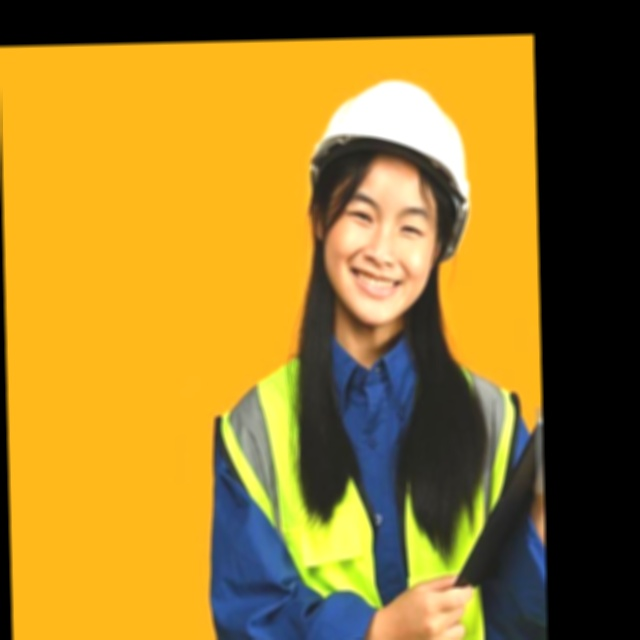Con_Casco: (304, 77, 471, 328)
Con_Chaleco: (222, 342, 529, 640)
